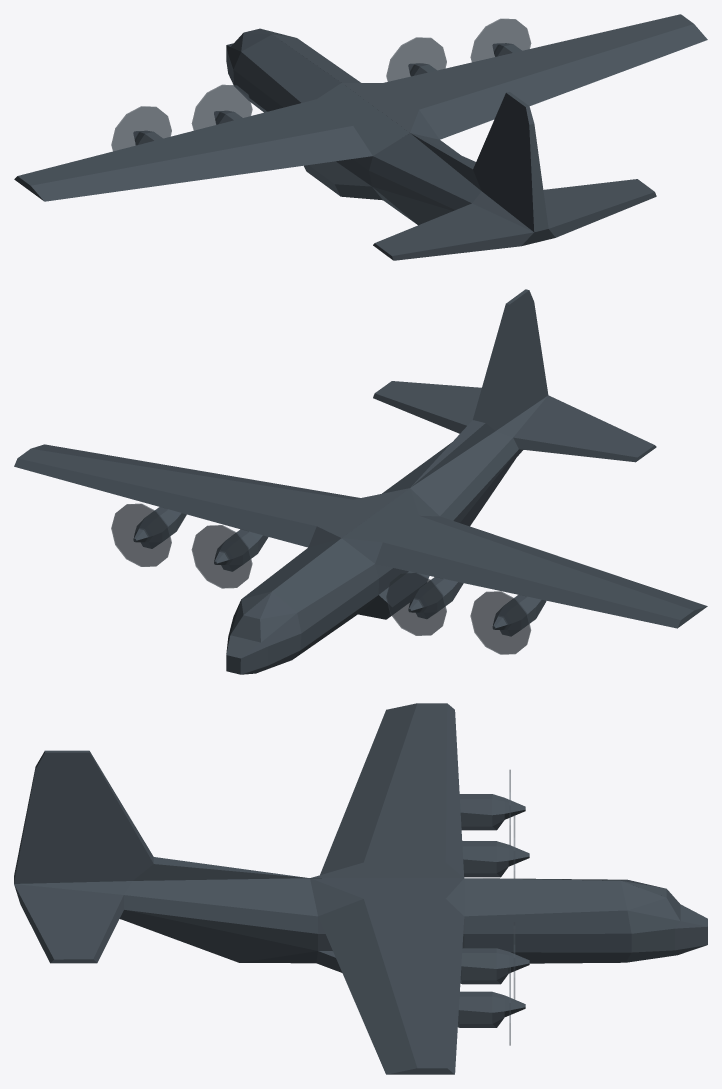
The model's file is Transport-C130.glb.
3 views of the same model, one above another, from view 1: azimuth 30°, elevation 25°; view 2: azimuth 150°, elevation 25°; view 3: azimuth 270°, elevation 25° (orthographic). The views are drawn at different scales.
Size of the model in its own units: 36.34 by 9.82 by 29.2.
